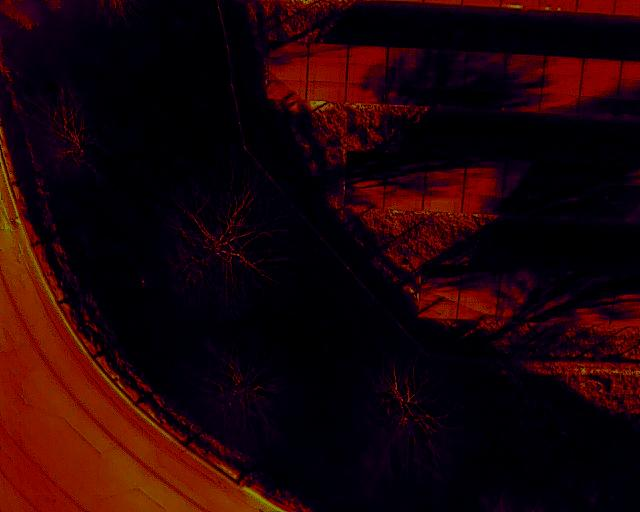No-Anomaly: (348, 44, 387, 65), (307, 63, 347, 83), (307, 81, 345, 102), (545, 56, 582, 76), (581, 78, 619, 97), (582, 59, 621, 77), (424, 196, 462, 212), (576, 0, 614, 15)
Shadowing: (387, 45, 426, 68), (576, 203, 617, 224), (419, 265, 460, 286), (267, 60, 308, 81), (387, 155, 428, 175), (384, 174, 425, 194), (507, 160, 546, 181), (386, 67, 426, 87), (425, 69, 465, 89), (503, 179, 545, 198), (467, 158, 506, 178), (581, 185, 620, 205), (427, 49, 466, 69), (347, 152, 387, 171), (425, 176, 463, 196), (545, 163, 585, 182), (503, 53, 543, 72), (347, 64, 385, 84), (346, 84, 386, 103), (497, 269, 539, 287), (584, 165, 623, 184), (309, 44, 348, 63), (544, 75, 581, 95), (466, 52, 504, 71), (426, 157, 466, 175), (347, 171, 383, 191), (540, 94, 580, 112), (466, 71, 506, 89), (267, 81, 307, 99), (386, 87, 426, 105), (460, 268, 502, 285), (543, 183, 580, 202), (497, 303, 534, 322), (466, 90, 503, 109), (536, 288, 575, 306), (457, 301, 496, 319), (427, 89, 466, 107), (500, 198, 541, 215), (580, 97, 618, 115), (462, 197, 500, 215), (541, 200, 577, 219), (464, 178, 502, 196), (506, 74, 544, 92), (383, 194, 423, 211), (417, 302, 457, 319), (503, 92, 542, 109), (420, 286, 459, 303), (459, 285, 498, 302), (540, 272, 579, 289), (345, 192, 384, 209), (269, 42, 308, 59), (533, 307, 573, 323), (498, 288, 537, 304), (572, 306, 611, 321), (576, 289, 615, 304), (578, 274, 615, 289)
